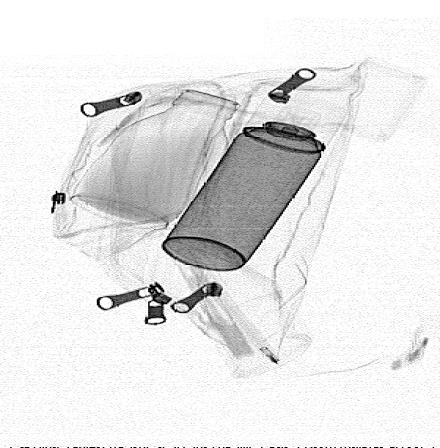Sprayer: (161, 93, 349, 271)
